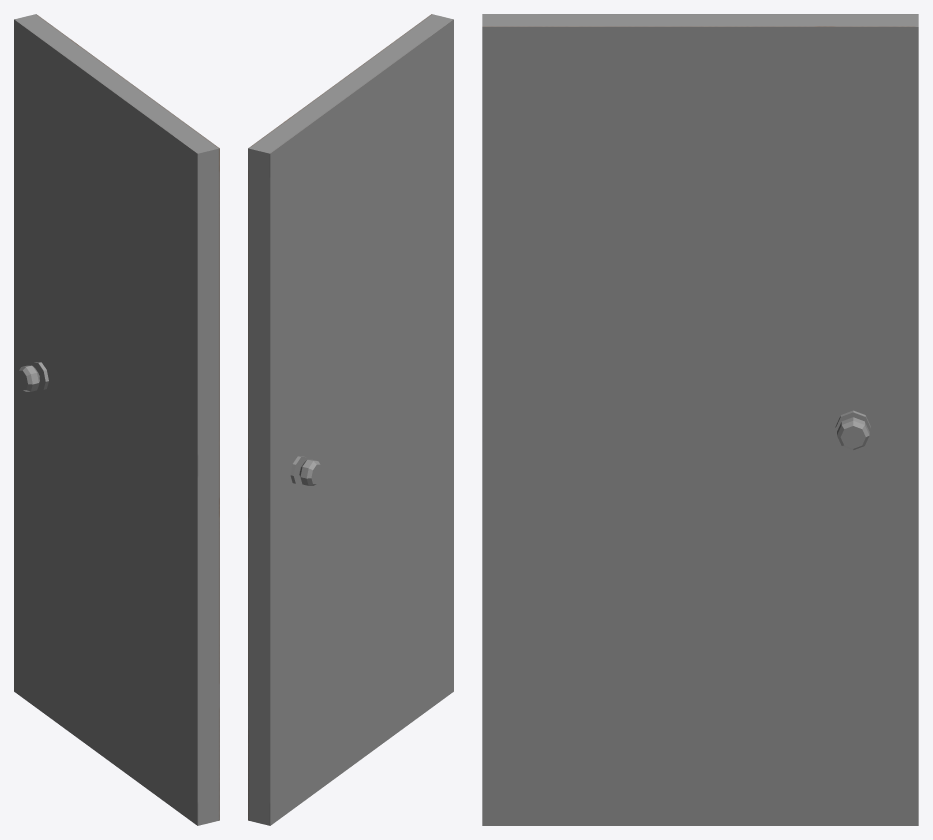
File: Door_Office.fbx
3 renders of one model, left to right at view 1: azimuth 30°, elevation 25°; view 2: azimuth 150°, elevation 25°; view 3: azimuth 270°, elevation 25°, orthographic. The views are drawn at different scales.
Visible parts, largest first — view 1: Door_Office_A.001; view 2: Door_Office_A.001; view 3: Door_Office_A.001.
Part boxes in pixels (left/top/right/bottom): Door_Office_A.001: left=14, top=14, right=219, bottom=825; Door_Office_A.001: left=248, top=14, right=453, bottom=825; Door_Office_A.001: left=482, top=14, right=918, bottom=825.
Size of the model in its own units: 18.88 by 202 by 100.
